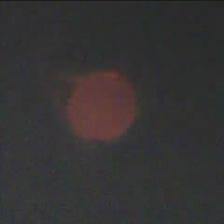fertile: (60, 68, 142, 146)
